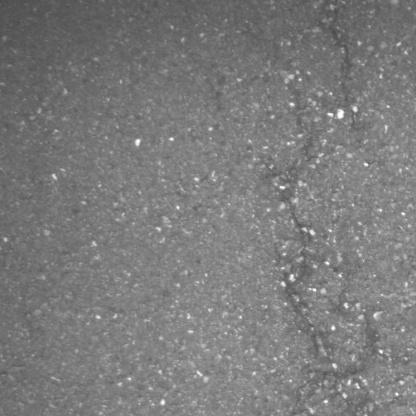Cracks: (269, 200, 320, 335), (322, 0, 360, 132)
